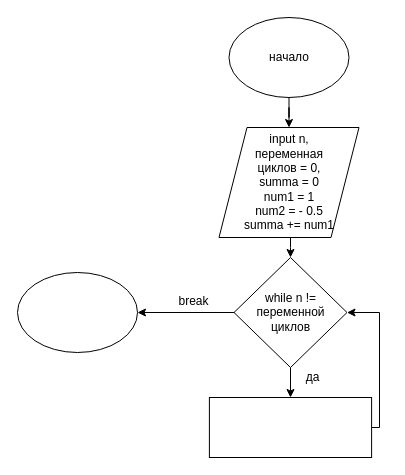
The diagram is 405 pixels wide and 475 high, and some of its shapes have lost their labels. Here are the shapes that lost their labels. From the top down, the centre of each, then its label:
At point (77, 312): "конец".
At point (290, 427): "summa += num2 num2 = (n1 + n2)/2 переменная циклов += 1".
